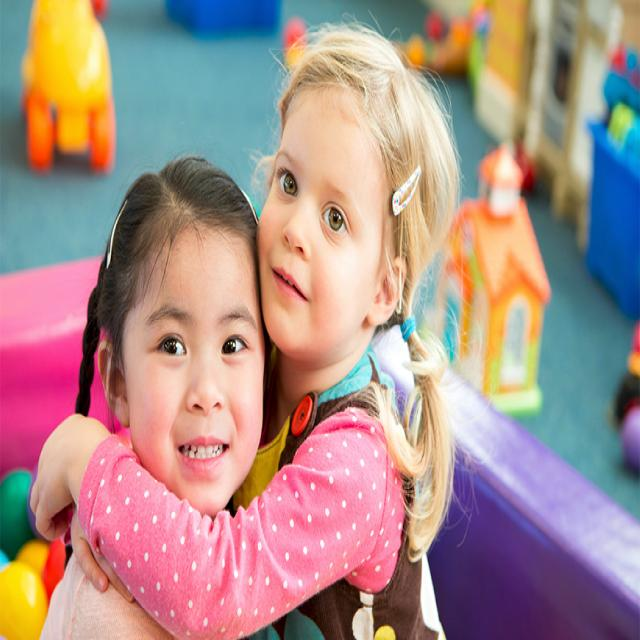child: (27, 16, 466, 640), (38, 150, 270, 640)
